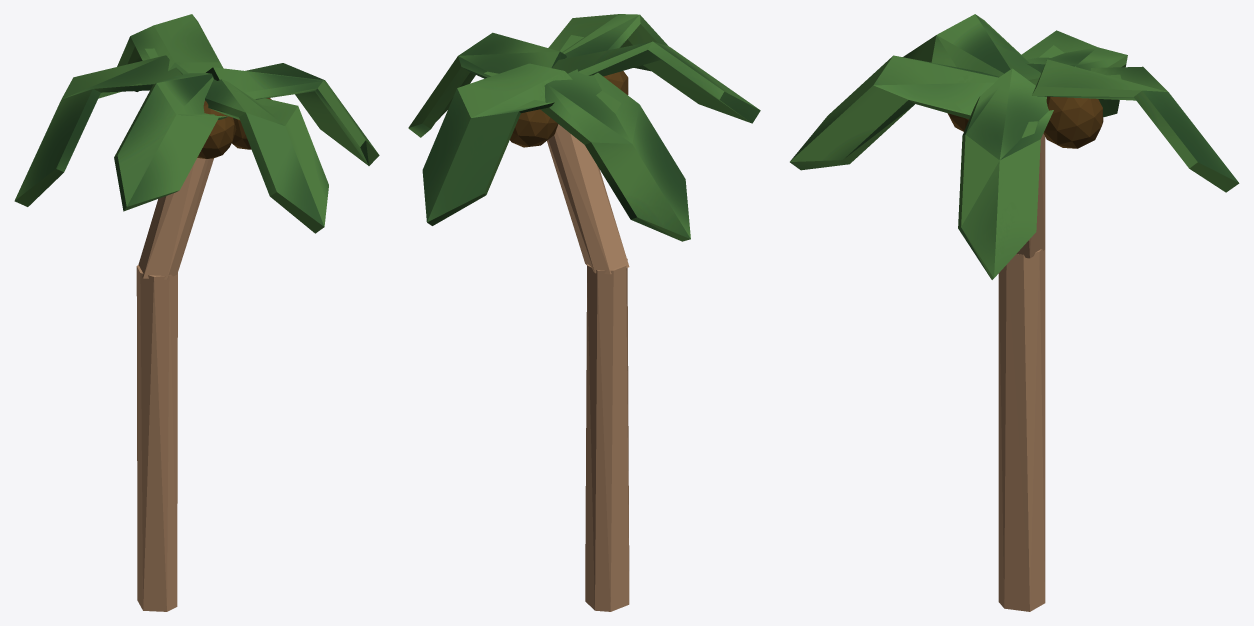
The model's file is palmtree.glb.
The picture shows the model from 3 angles, left to right: view 1: azimuth 30°, elevation 25°; view 2: azimuth 150°, elevation 25°; view 3: azimuth 270°, elevation 25°; orthographic projection. The views are drawn at different scales.
Parts seen in each view (by area): view 1: Cylinder, Cube.004, Cube, Cube.002, Cube.001, Cylinder.001, Cube.003, Icosphere.001; view 2: Cylinder, Cube.002, Cube.003, Cylinder.001, Cube.004, Cube.001, Cube, Icosphere; view 3: Cylinder, Cube.001, Cube, Cube.003, Cube.004, Cube.002, Icosphere, Cylinder.001.
Boxes of the visible parts, bbox=[...] form: Cylinder: bbox=[136, 265, 177, 611]; Cube.004: bbox=[114, 73, 234, 211]; Cube: bbox=[205, 79, 328, 233]; Cube.002: bbox=[14, 55, 182, 206]; Cube.001: bbox=[206, 63, 379, 165]; Cylinder.001: bbox=[138, 158, 213, 279]; Cube.003: bbox=[117, 14, 222, 91]; Icosphere.001: bbox=[197, 101, 236, 158]; Cylinder: bbox=[585, 258, 629, 611]; Cube.002: bbox=[540, 69, 690, 241]; Cube.003: bbox=[422, 63, 572, 225]; Cylinder.001: bbox=[547, 124, 629, 274]; Cube.004: bbox=[552, 41, 760, 123]; Cube.001: bbox=[408, 32, 566, 137]; Cube: bbox=[548, 14, 668, 71]; Icosphere: bbox=[510, 109, 558, 147]; Cylinder: bbox=[998, 249, 1045, 611]; Cube.001: bbox=[958, 68, 1053, 279]; Cube: bbox=[790, 55, 999, 170]; Cube.003: bbox=[1032, 59, 1239, 192]; Cube.004: bbox=[903, 14, 1041, 85]; Cube.002: bbox=[1021, 30, 1127, 117]; Icosphere: bbox=[1043, 96, 1103, 148]; Cylinder.001: bbox=[1016, 133, 1045, 258].
Bounding box in the file's own units: 5.69 × 9.15 × 6.47.
3 materials, 1 textured.
